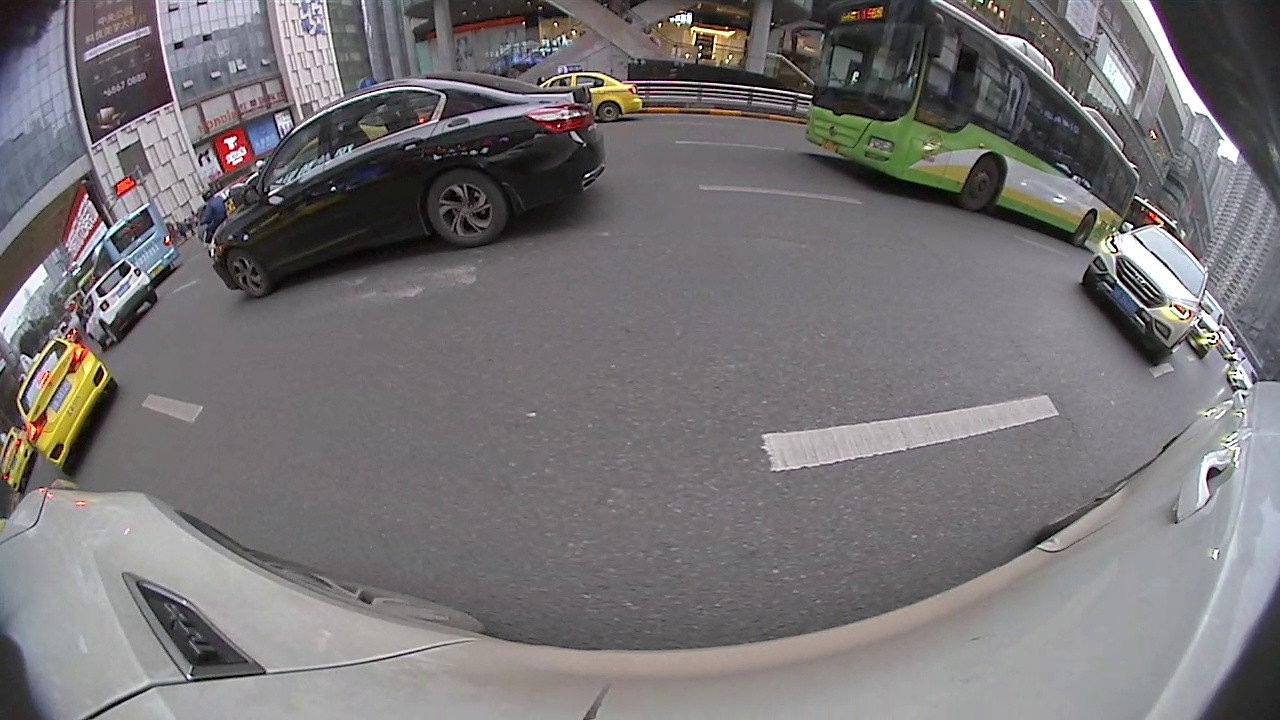bus: (798, 2, 1137, 254), (80, 201, 181, 311)
car: (204, 71, 599, 302), (1079, 229, 1212, 364), (13, 333, 111, 476), (74, 258, 156, 347), (532, 73, 644, 130)
front: (223, 247, 270, 299), (960, 156, 1001, 214)
rear: (426, 166, 509, 251), (1070, 211, 1096, 247), (596, 99, 622, 123)
